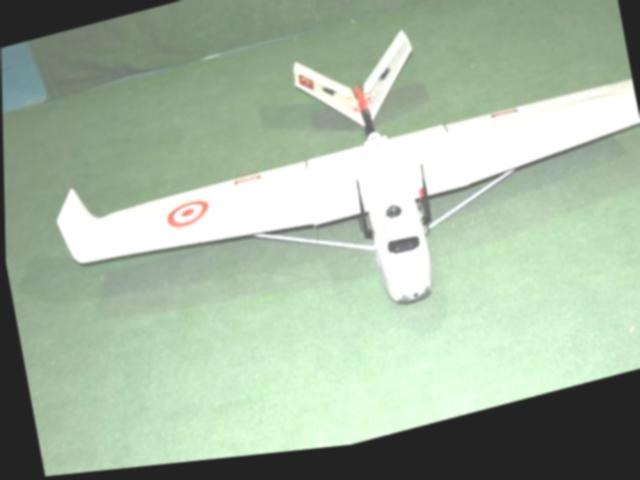iha: (26, 0, 640, 403)
